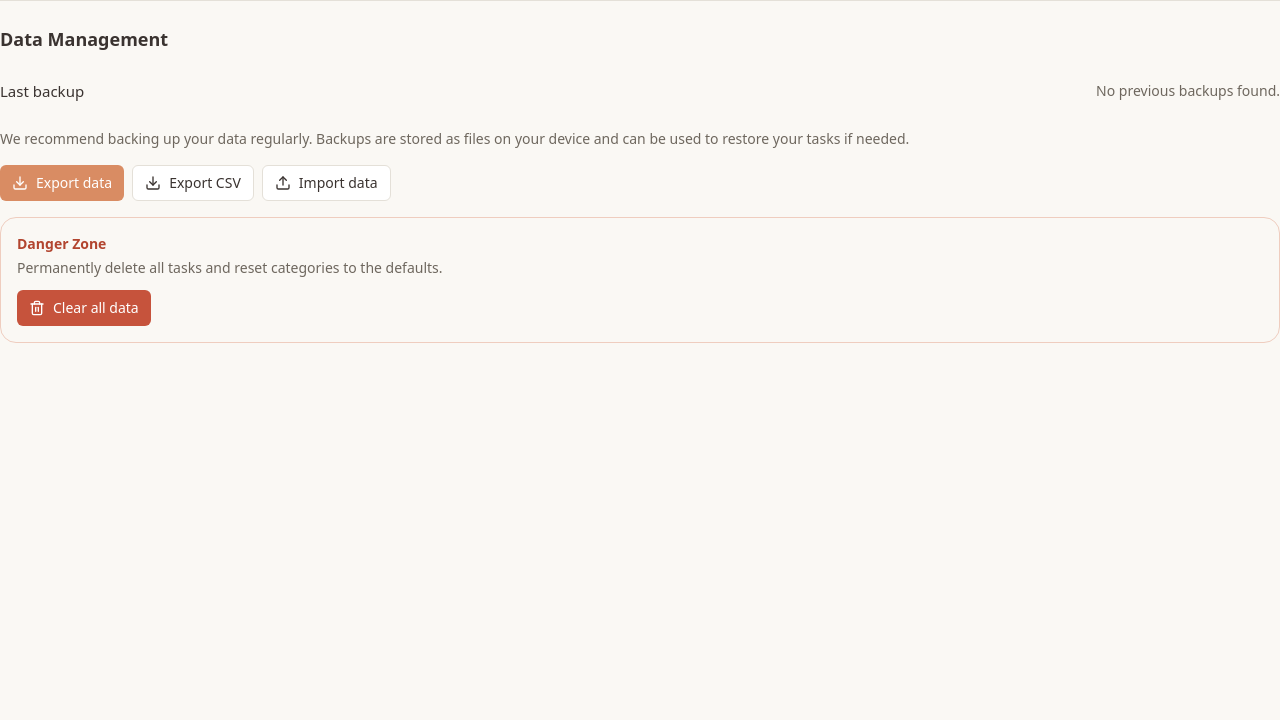
Test: DataManagementSection › confirms before clearing all data
This screenshot has width=1280, height=720.
Click the button "Clear all data": (84, 308) [17,290,151,326]
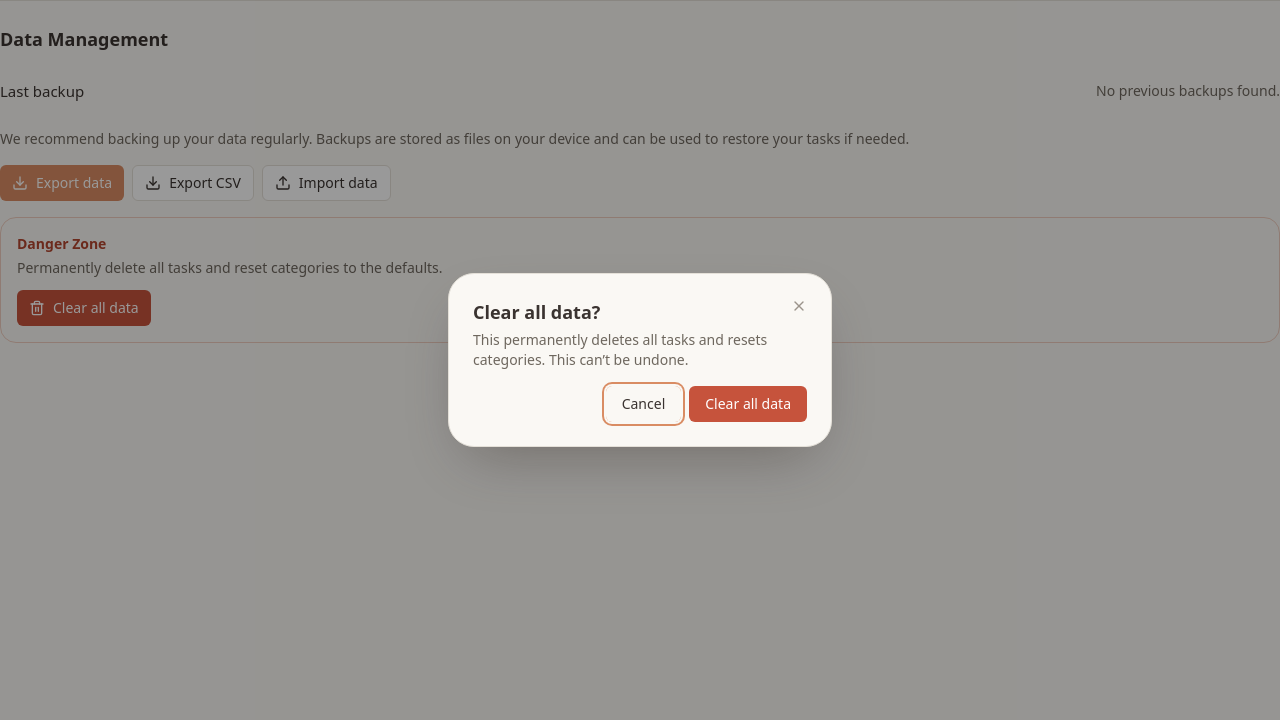
Expected: the heading "Clear all data?" is shown, [473,300,600,324]
